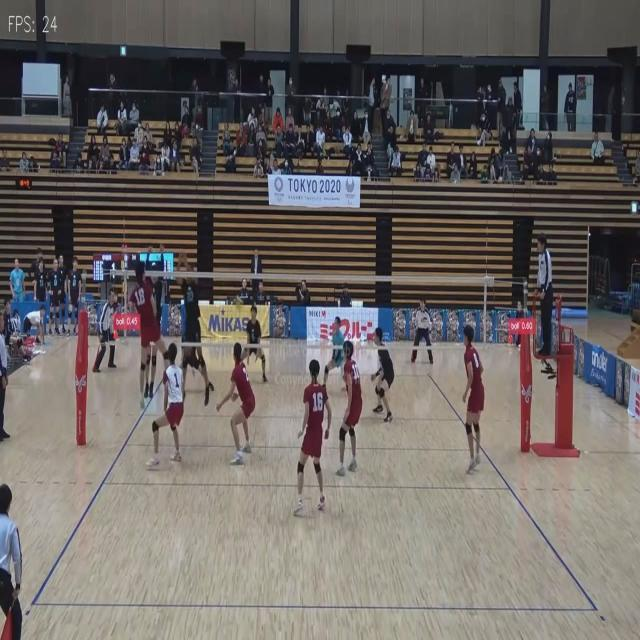volleyball: (235, 296, 242, 310)
